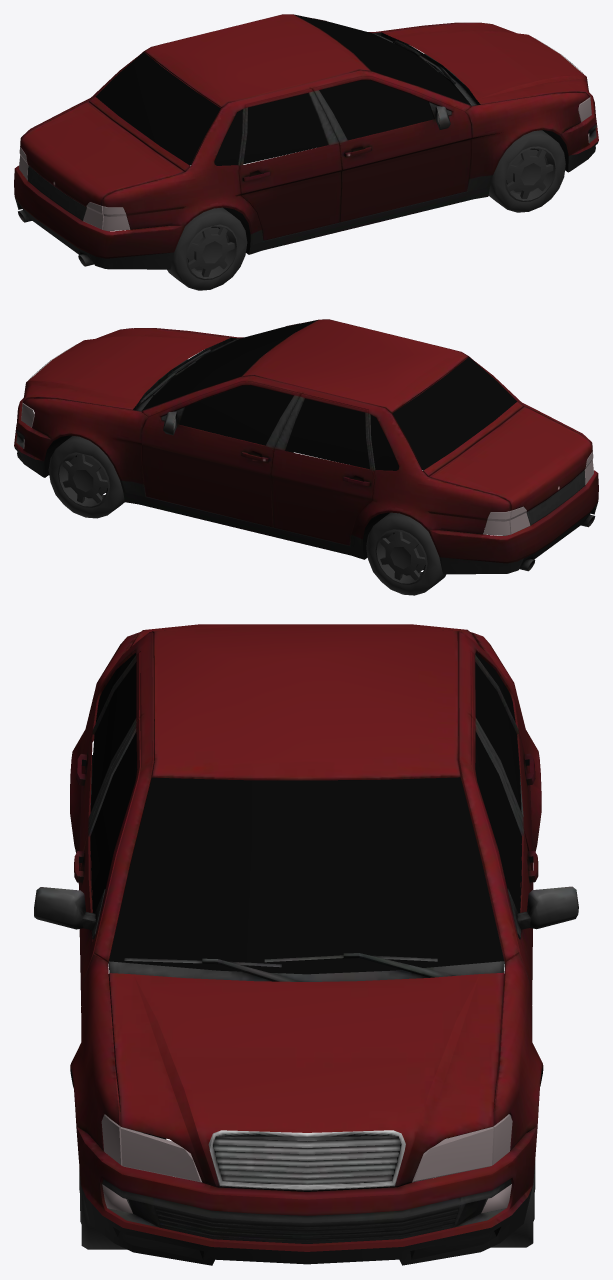
File: pc-sedan-maroon.lod0.glb
The picture shows the model from 3 angles, top to bottom: view 1: azimuth 30°, elevation 25°; view 2: azimuth 150°, elevation 25°; view 3: azimuth 270°, elevation 25°; orthographic projection. The views are drawn at different scales.
Visible parts, largest first — view 1: Sedan Body_Body_0, Sedan Body_Glass_0; view 2: Sedan Body_Body_0, Sedan Body_Glass_0; view 3: Sedan Body_Body_0, Sedan Body_Glass_0.
Part boxes in pixels (x1,y1,x2,y2): Sedan Body_Body_0: [14, 14, 598, 269]; Sedan Body_Glass_0: [19, 14, 591, 290]; Sedan Body_Body_0: [14, 319, 598, 574]; Sedan Body_Glass_0: [21, 320, 593, 595]; Sedan Body_Body_0: [34, 624, 578, 1265]; Sedan Body_Glass_0: [79, 653, 535, 1249].
Bounding box in the file's own units: 4.36 × 1.34 × 1.94.
Materials: 2 (1 with a texture image).
